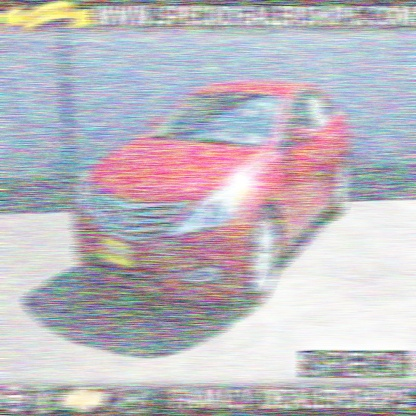Vehicle: (71, 75, 355, 307)
